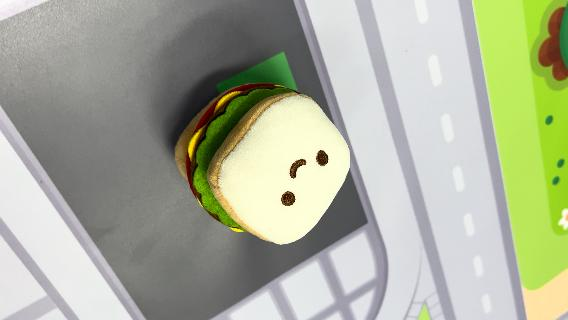sandwich: (173, 80, 353, 246)
